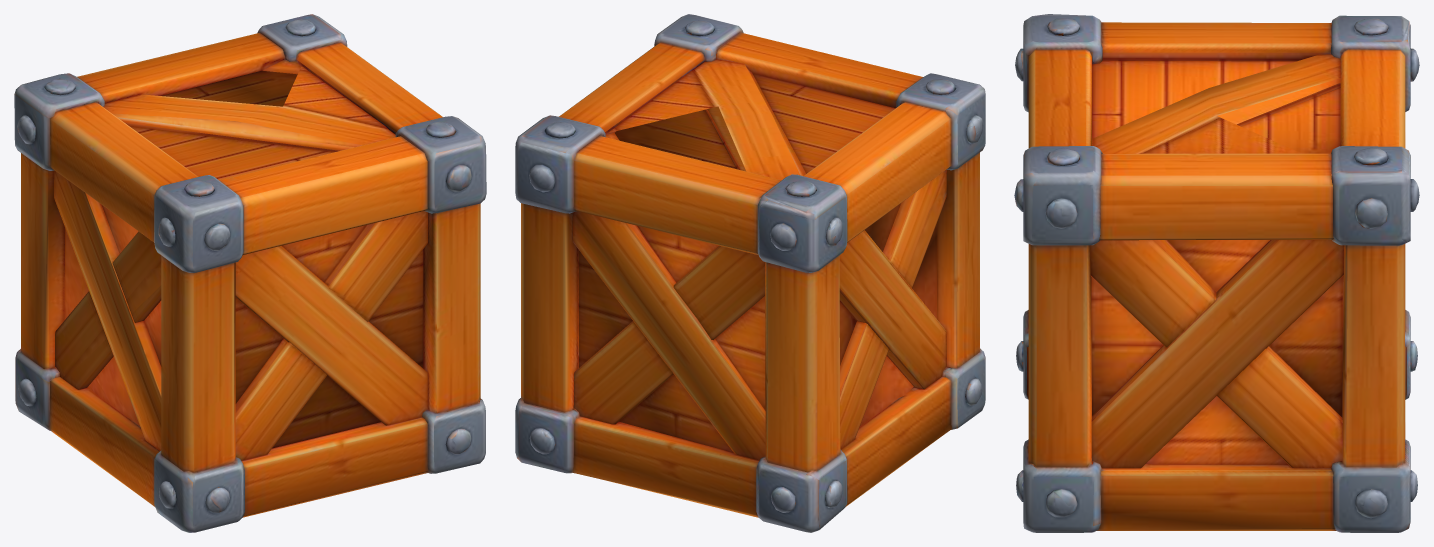
The model's file is env_block_crate.glb.
3 views of the same model, side by side, from view 1: azimuth 30°, elevation 25°; view 2: azimuth 150°, elevation 25°; view 3: azimuth 270°, elevation 25° (orthographic). The views are drawn at different scales.
Parts seen in each view (by area): view 1: Mesh_0; view 2: Mesh_0; view 3: Mesh_0.
Part boxes in pixels (x1,y1,x2,y2): Mesh_0: (14, 14, 486, 532); Mesh_0: (515, 14, 985, 532); Mesh_0: (1014, 14, 1419, 532).
Size of the model in its own units: 1 by 1 by 1.
Materials: 1 (1 with a texture image).
